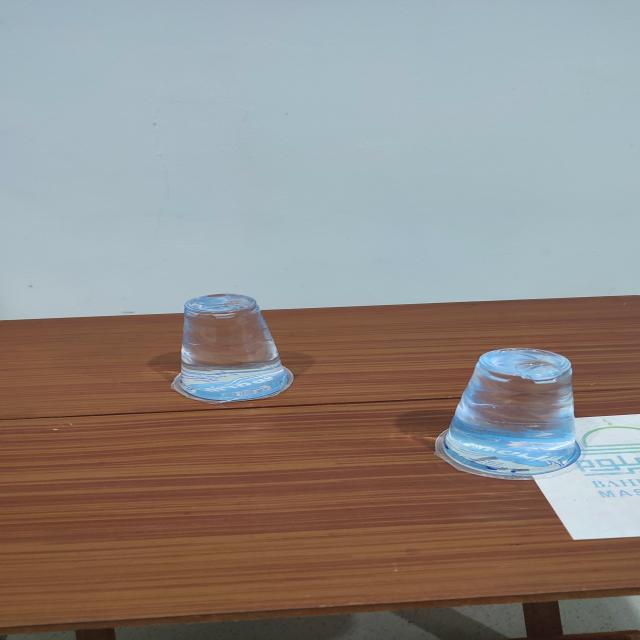air gelas: (428, 338, 599, 479), (159, 291, 312, 406)
